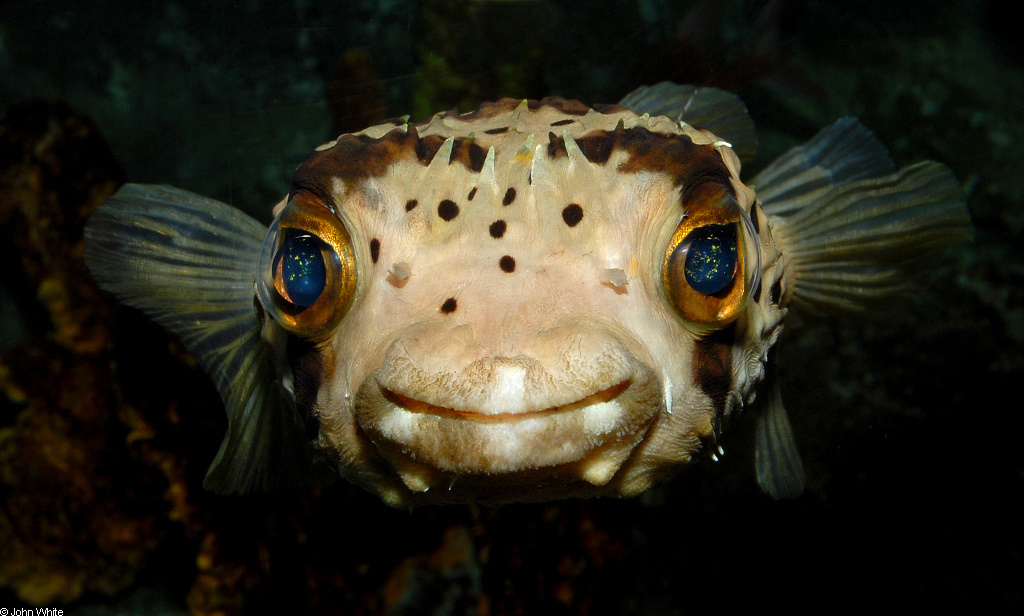Diodon_holocanthus: (82, 40, 976, 523)
